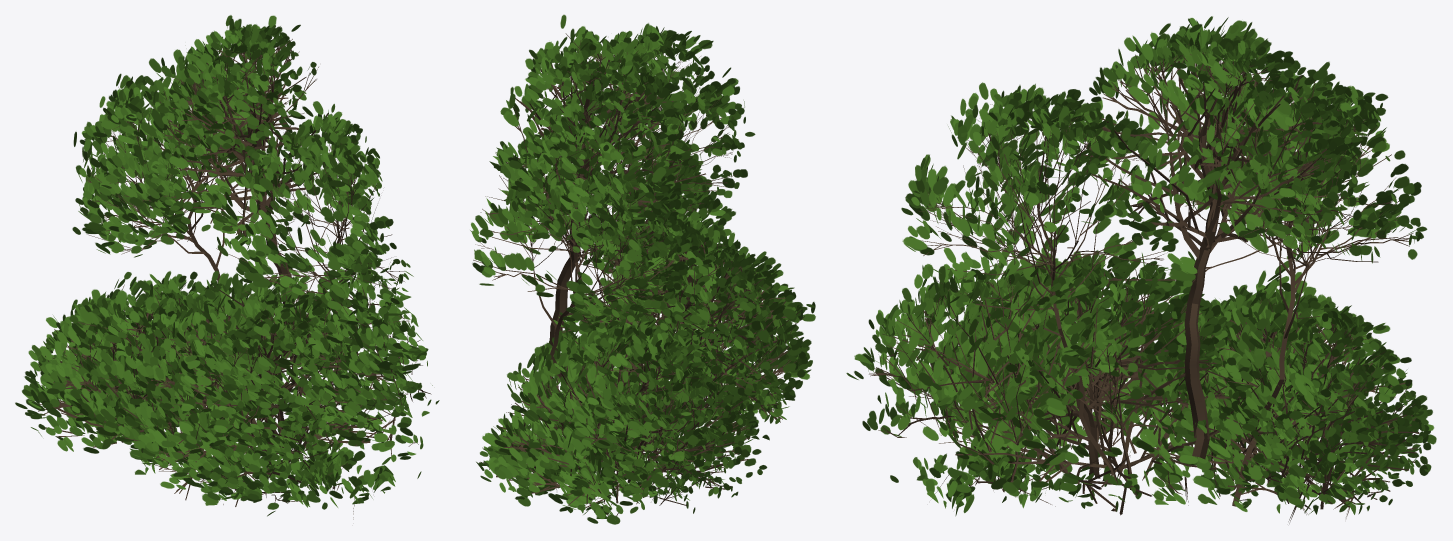
3 renders of one model, left to right at view 1: azimuth 30°, elevation 25°; view 2: azimuth 150°, elevation 25°; view 3: azimuth 270°, elevation 25°, orthographic. The views are drawn at different scales.
Parts seen in each view (by area): view 1: oak 01.001_trunk_Mat.001_0.226; view 2: oak 01.001_trunk_Mat.001_0.226; view 3: oak 01.001_trunk_Mat.001_0.226.
Boxes of the visible parts, box(x1,y1,x2,y2) form: oak 01.001_trunk_Mat.001_0.226: box(15, 15, 439, 519); oak 01.001_trunk_Mat.001_0.226: box(470, 14, 815, 524); oak 01.001_trunk_Mat.001_0.226: box(846, 16, 1436, 523).
Size of the model in its own units: 2.94 by 4.66 by 5.
Materials: 2 (1 with a texture image).
